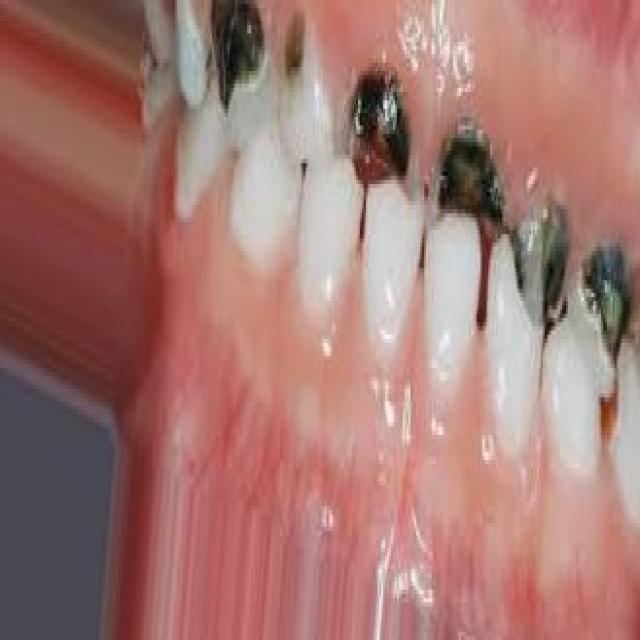caries: (424, 99, 514, 257), (338, 61, 420, 212), (571, 222, 634, 405), (204, 0, 273, 142), (514, 174, 576, 326), (269, 2, 324, 106)
